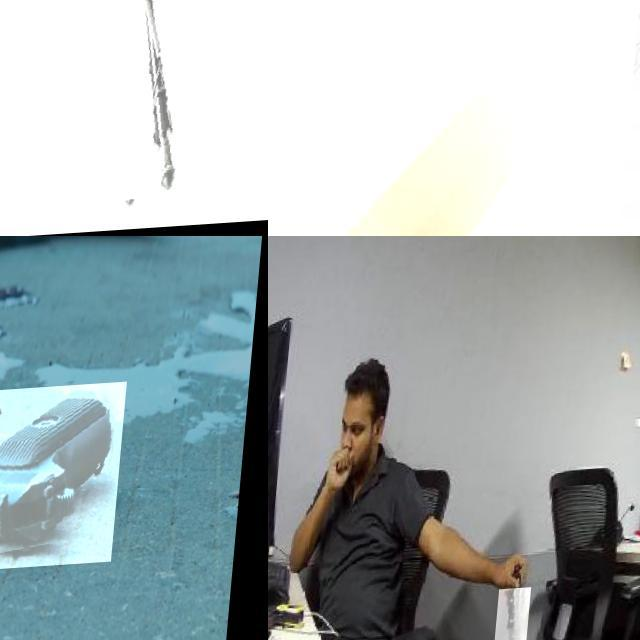-: (268, 0, 640, 236), (501, 592, 540, 640)
gun-knife-thesis - v11 Yolov5 augmented: (0, 0, 268, 236), (0, 389, 172, 586)
